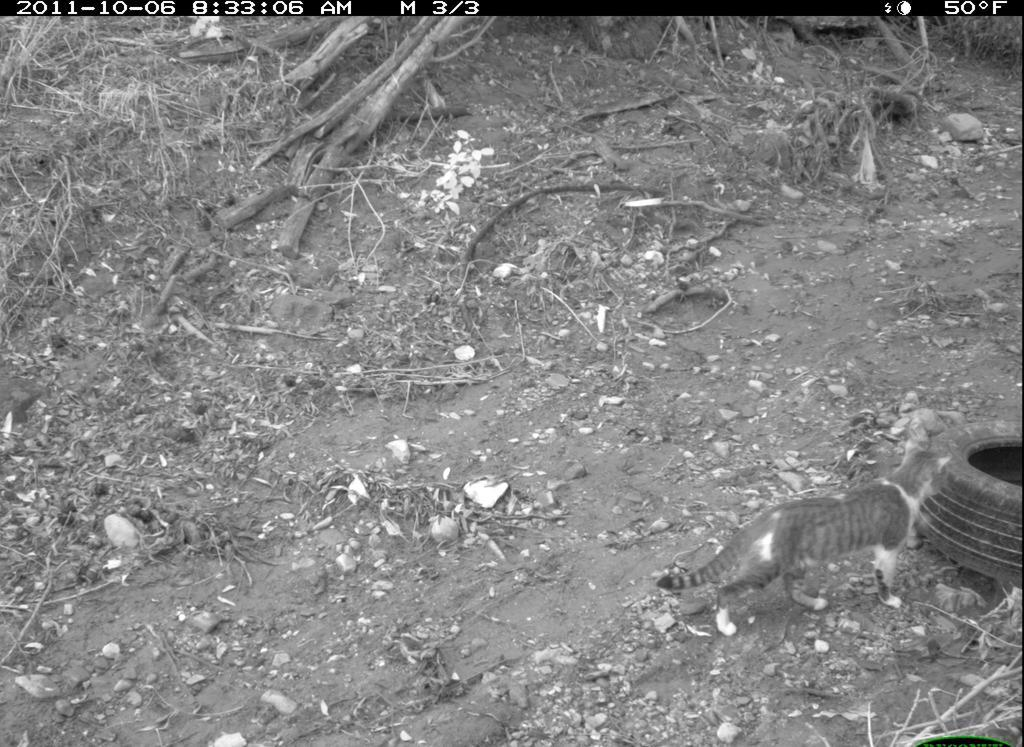cat: (649, 432, 957, 639)
